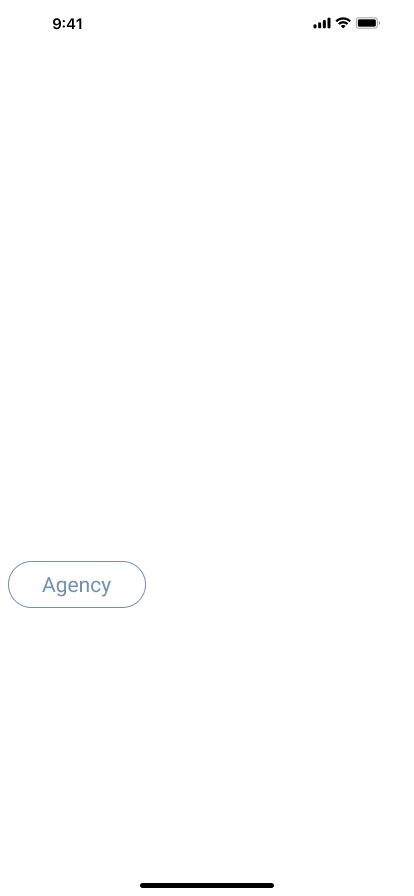Buttons: (8, 561, 154, 608)
Home Indicator: (0, 862, 414, 896)
Status Bar: (0, 0, 414, 44)
